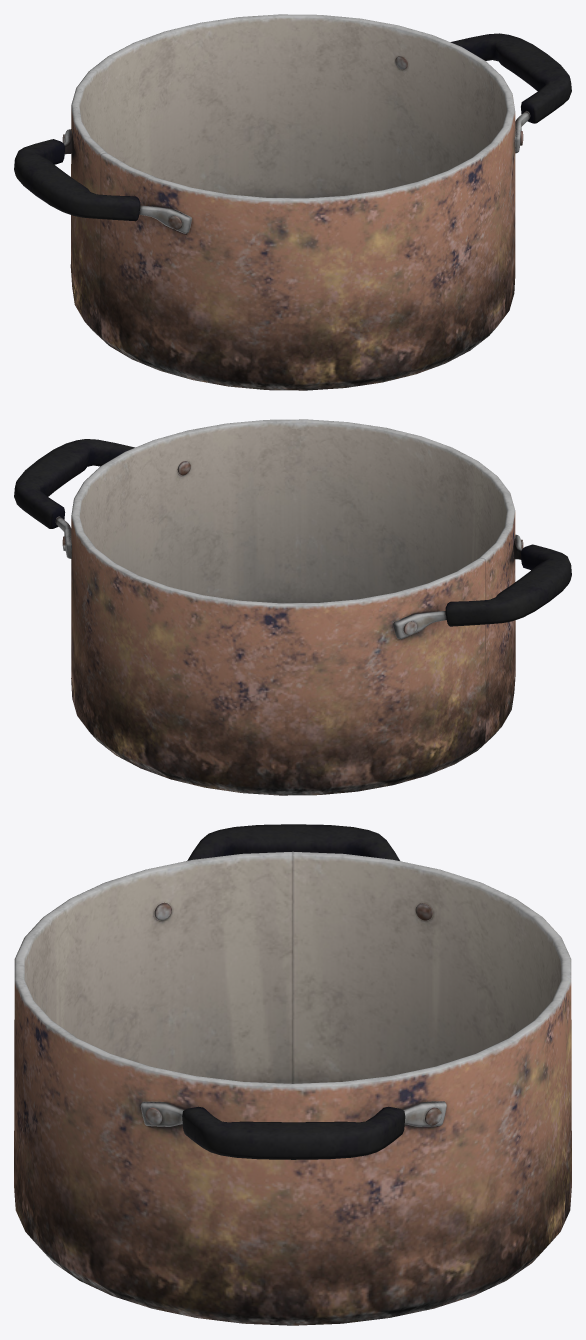
File: obj_old_metal_pot_f77a70.glb
The picture shows the model from 3 angles, top to bottom: view 1: azimuth 30°, elevation 25°; view 2: azimuth 150°, elevation 25°; view 3: azimuth 270°, elevation 25°; orthographic projection. The views are drawn at different scales.
Visible parts, largest first — view 1: obj_old_metal_pot_f77a70; view 2: obj_old_metal_pot_f77a70; view 3: obj_old_metal_pot_f77a70.
Boxes of the visible parts, x1,y1,x2,y2 form: obj_old_metal_pot_f77a70: [14, 14, 571, 390]; obj_old_metal_pot_f77a70: [14, 419, 571, 795]; obj_old_metal_pot_f77a70: [14, 824, 571, 1325].
Bounding box in the file's own units: 0.35 × 0.1253 × 0.26.
1 material, 1 textured.
